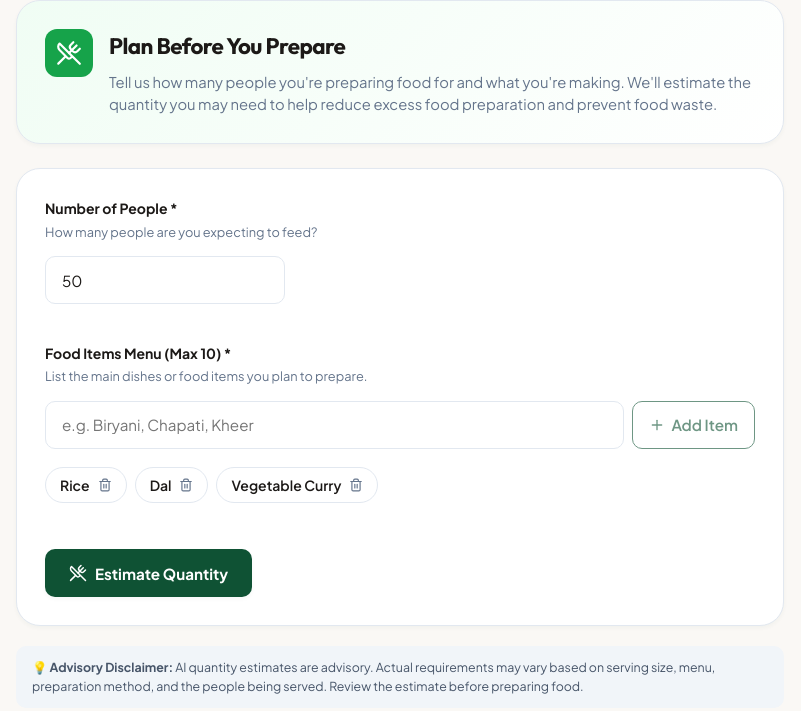
it: FoodQuantityPlanner Component › 9. Loading state shows indicator and disables estimate button
Click the button "Estimate Quantity": point(149, 573) x1=45 y1=549 x2=252 y2=597
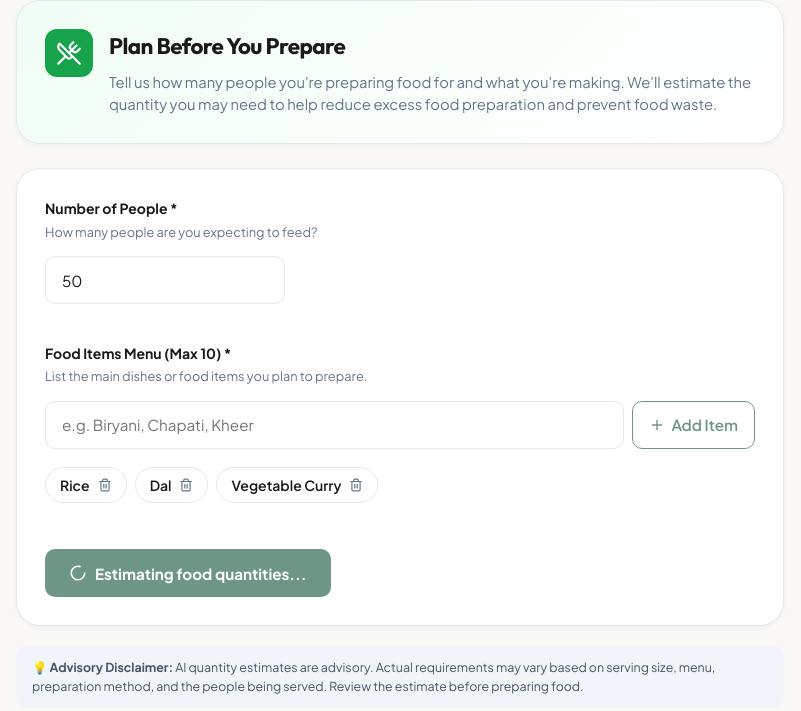
Now the text "Estimating food quantities..." is shown, box x1=95 y1=564 x2=306 y2=583
Now the button named "Estimate Quantity" is disabled, box x1=45 y1=549 x2=330 y2=597
